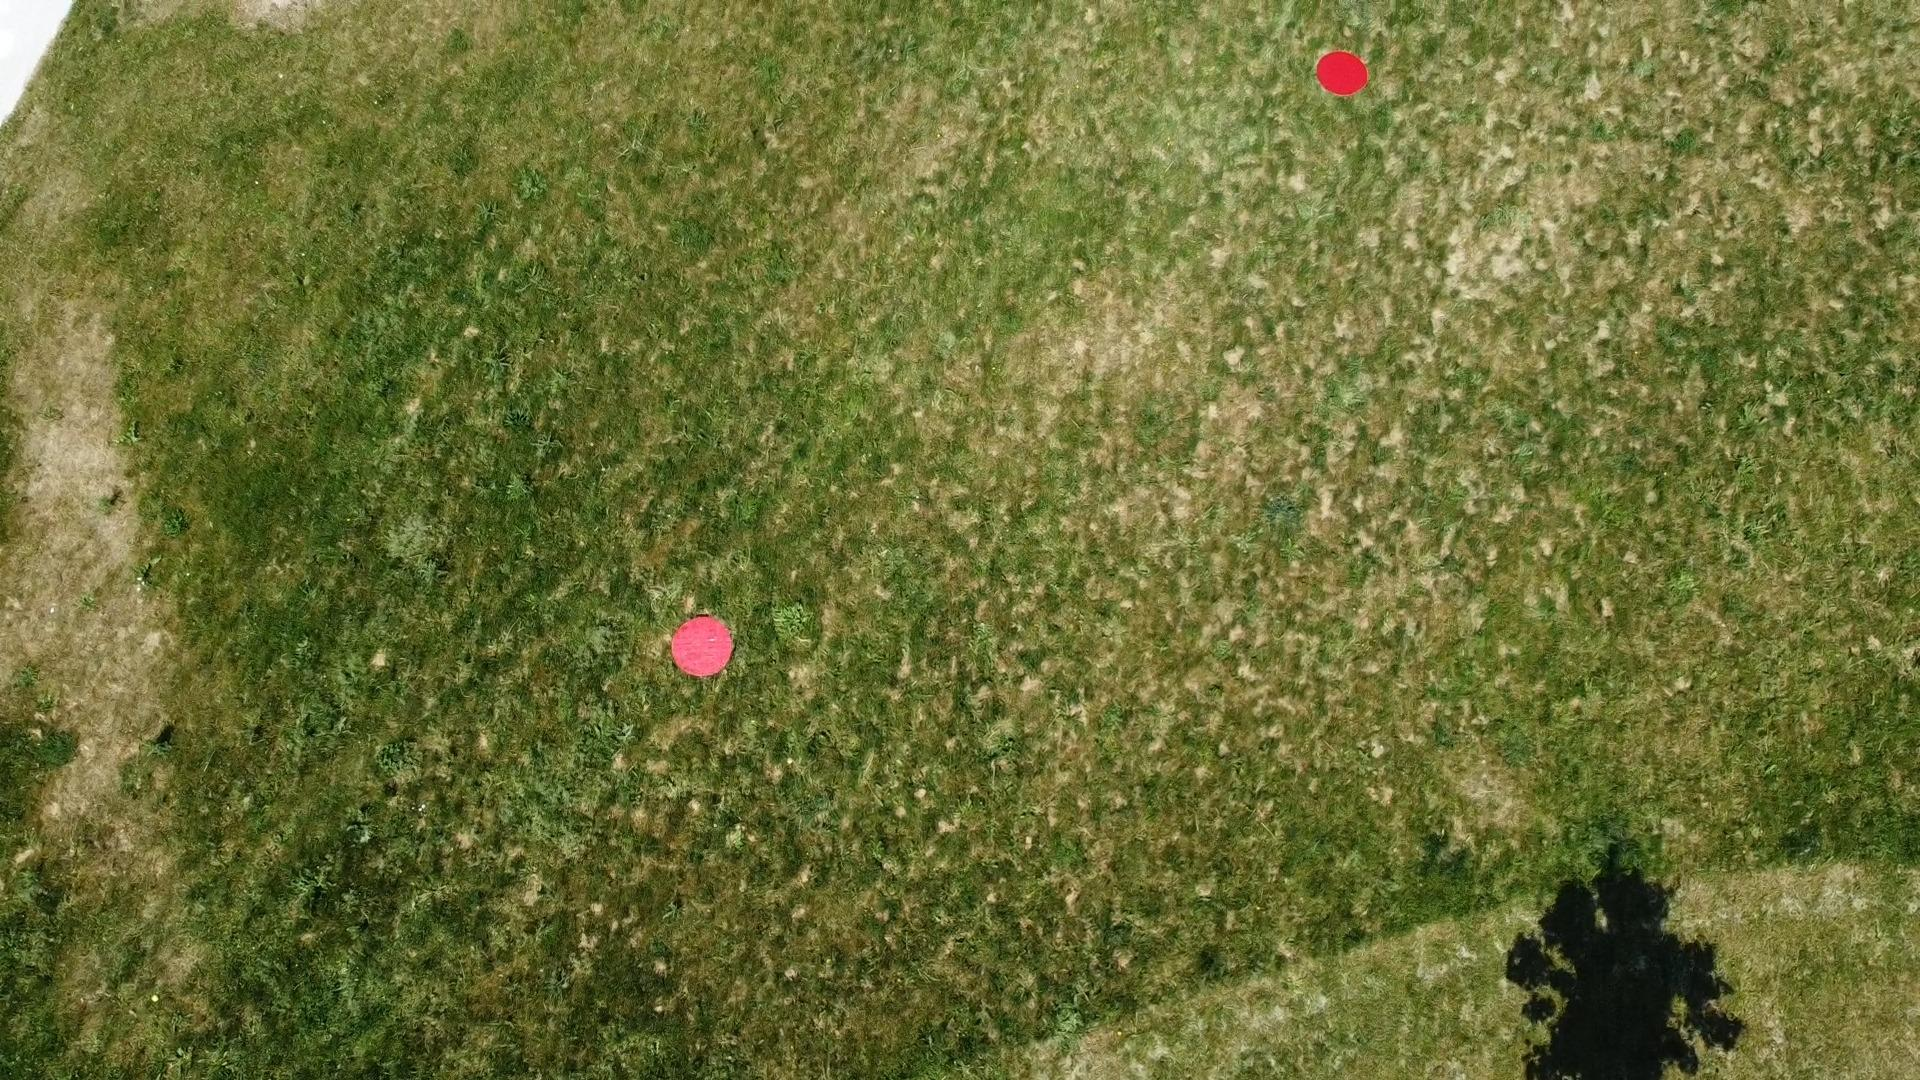Red: (668, 612, 738, 680), (1311, 48, 1372, 97)
